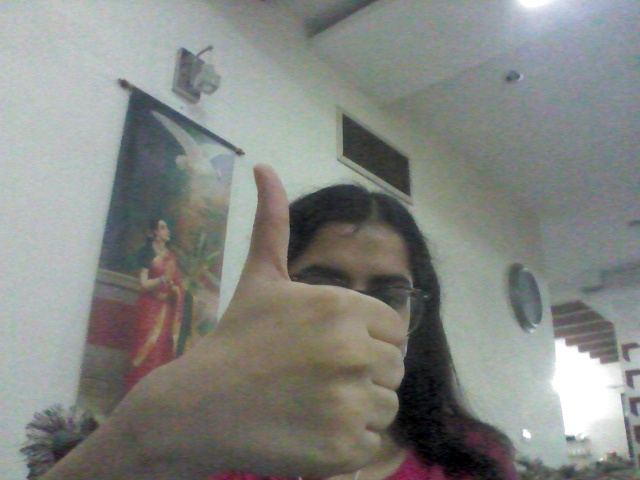ThumbsUp: (175, 163, 408, 480)
